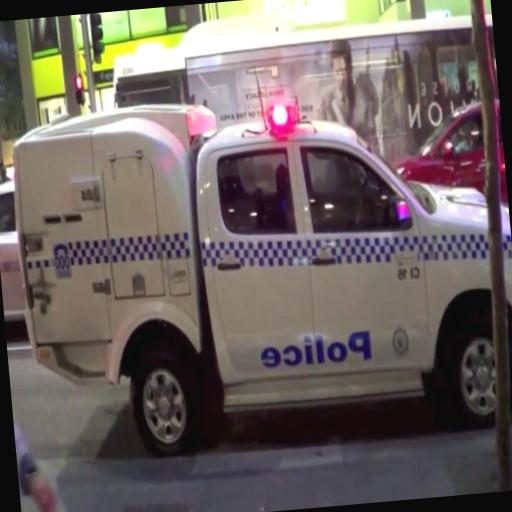Ambulance: (7, 82, 512, 475)
